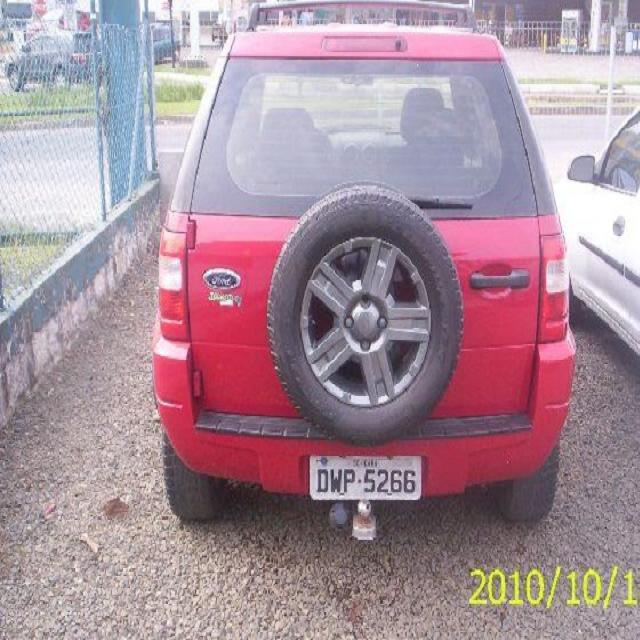Placa: (307, 452, 425, 501)
